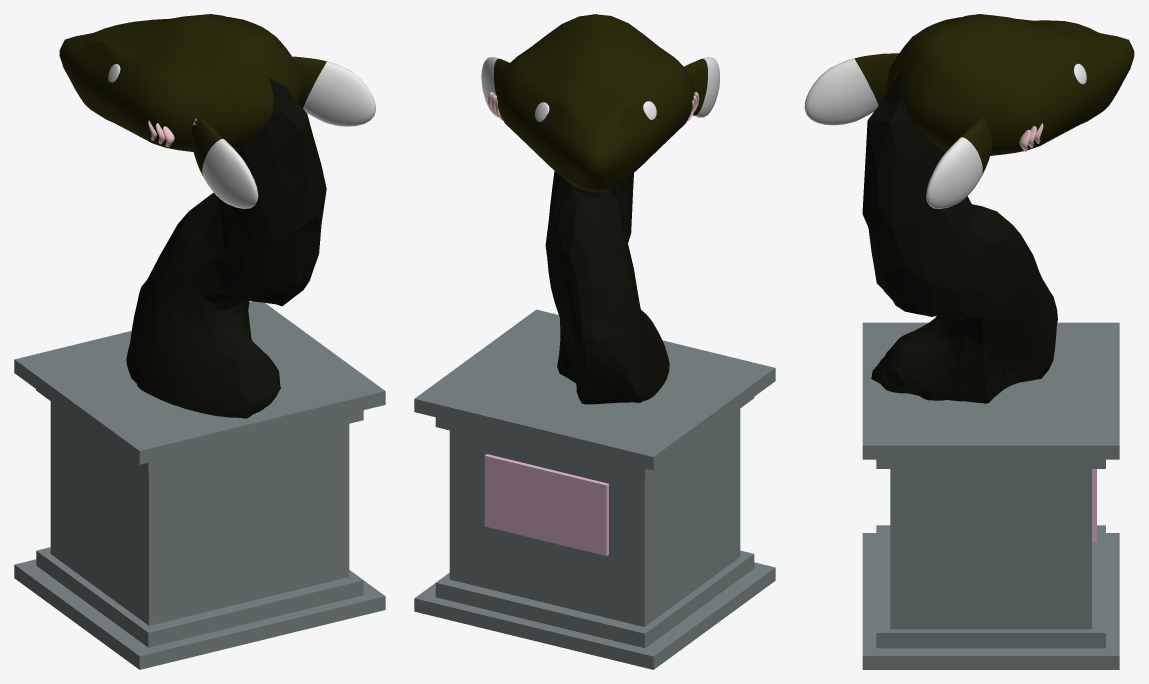
File: SidderaalStatue.fbx
3 views of the same model, side by side, from view 1: azimuth 30°, elevation 25°; view 2: azimuth 150°, elevation 25°; view 3: azimuth 270°, elevation 25° (orthographic). The views are drawn at different scales.
Parts seen in each view (by area): view 1: Cube.004, Cylinder.001, Cylinder; view 2: Cube.004, Cylinder, Cylinder.001, Cube.002; view 3: Cube.004, Cylinder.001, Cylinder.
Part boxes in pixels (bbox=[...]): Cube.004: bbox=[14, 301, 385, 669]; Cylinder.001: bbox=[126, 78, 326, 418]; Cylinder: bbox=[59, 14, 375, 208]; Cube.004: bbox=[414, 309, 775, 669]; Cylinder: bbox=[481, 14, 719, 192]; Cylinder.001: bbox=[545, 171, 669, 404]; Cube.002: bbox=[484, 454, 608, 556]; Cube.004: bbox=[862, 322, 1119, 669]; Cylinder.001: bbox=[862, 68, 1057, 403]; Cylinder: bbox=[804, 14, 1134, 208].
Size of the model in its own units: 333 by 686 by 347.
